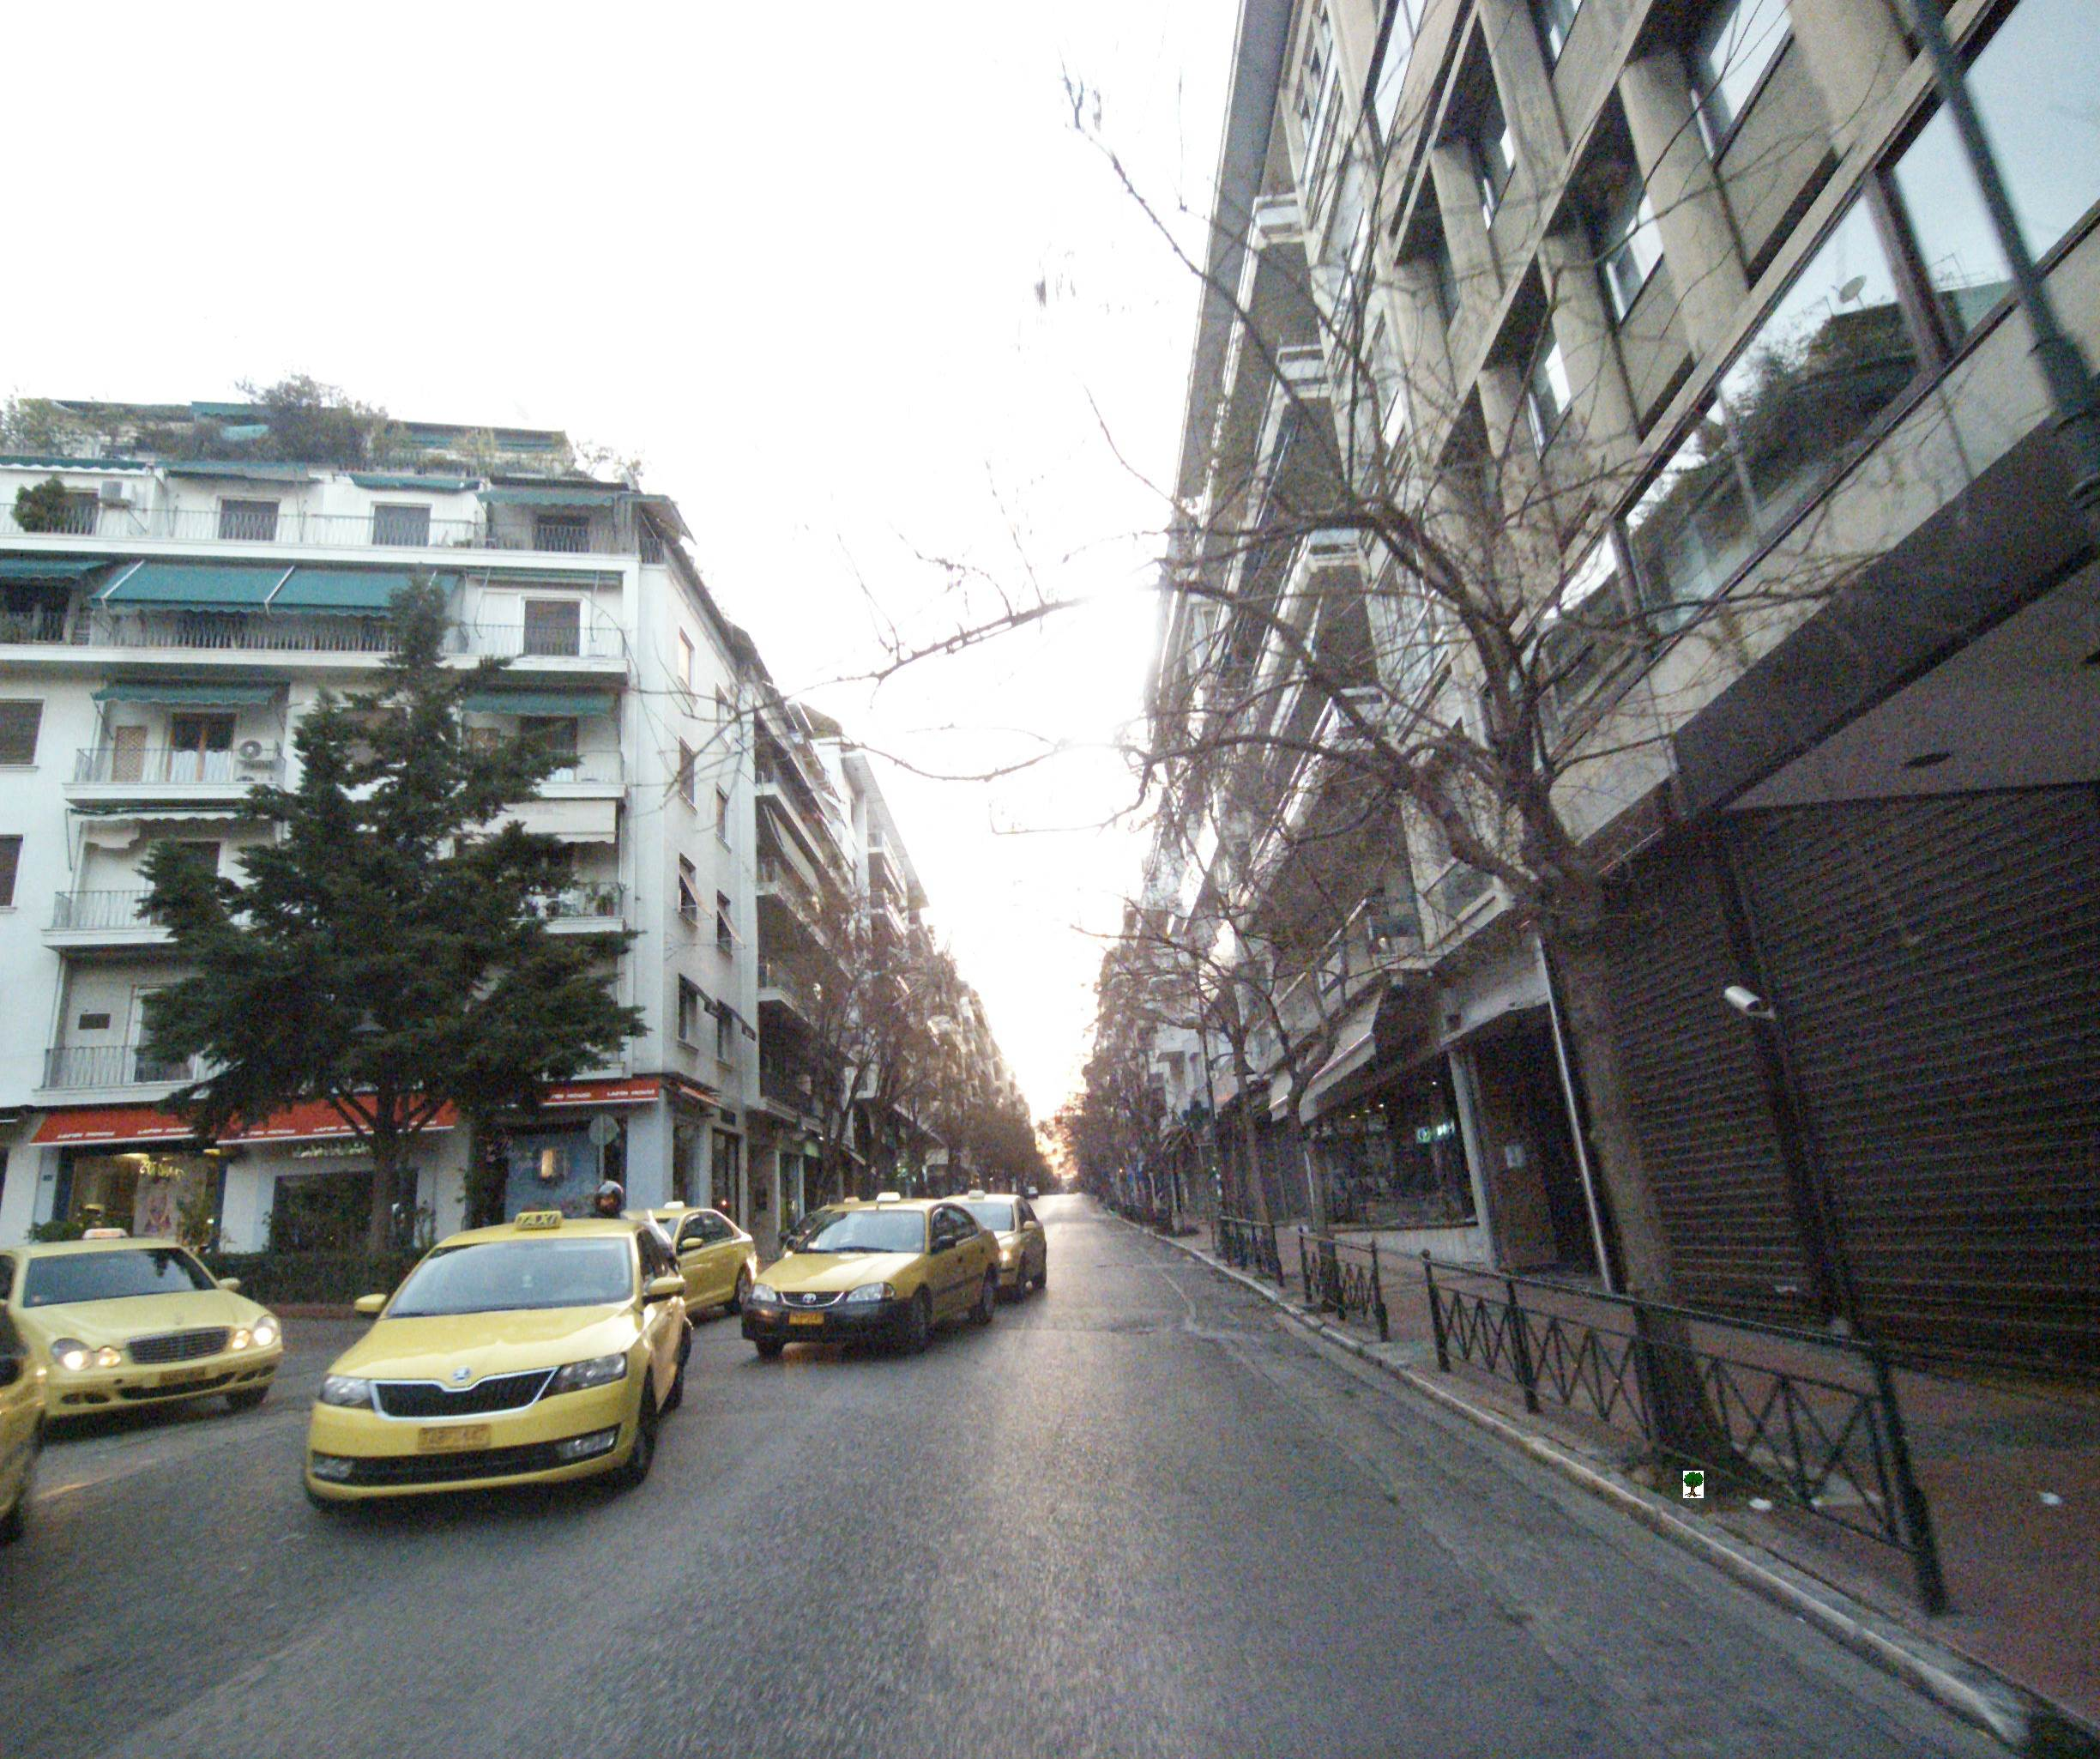tree: (972, 66, 1994, 1576)
